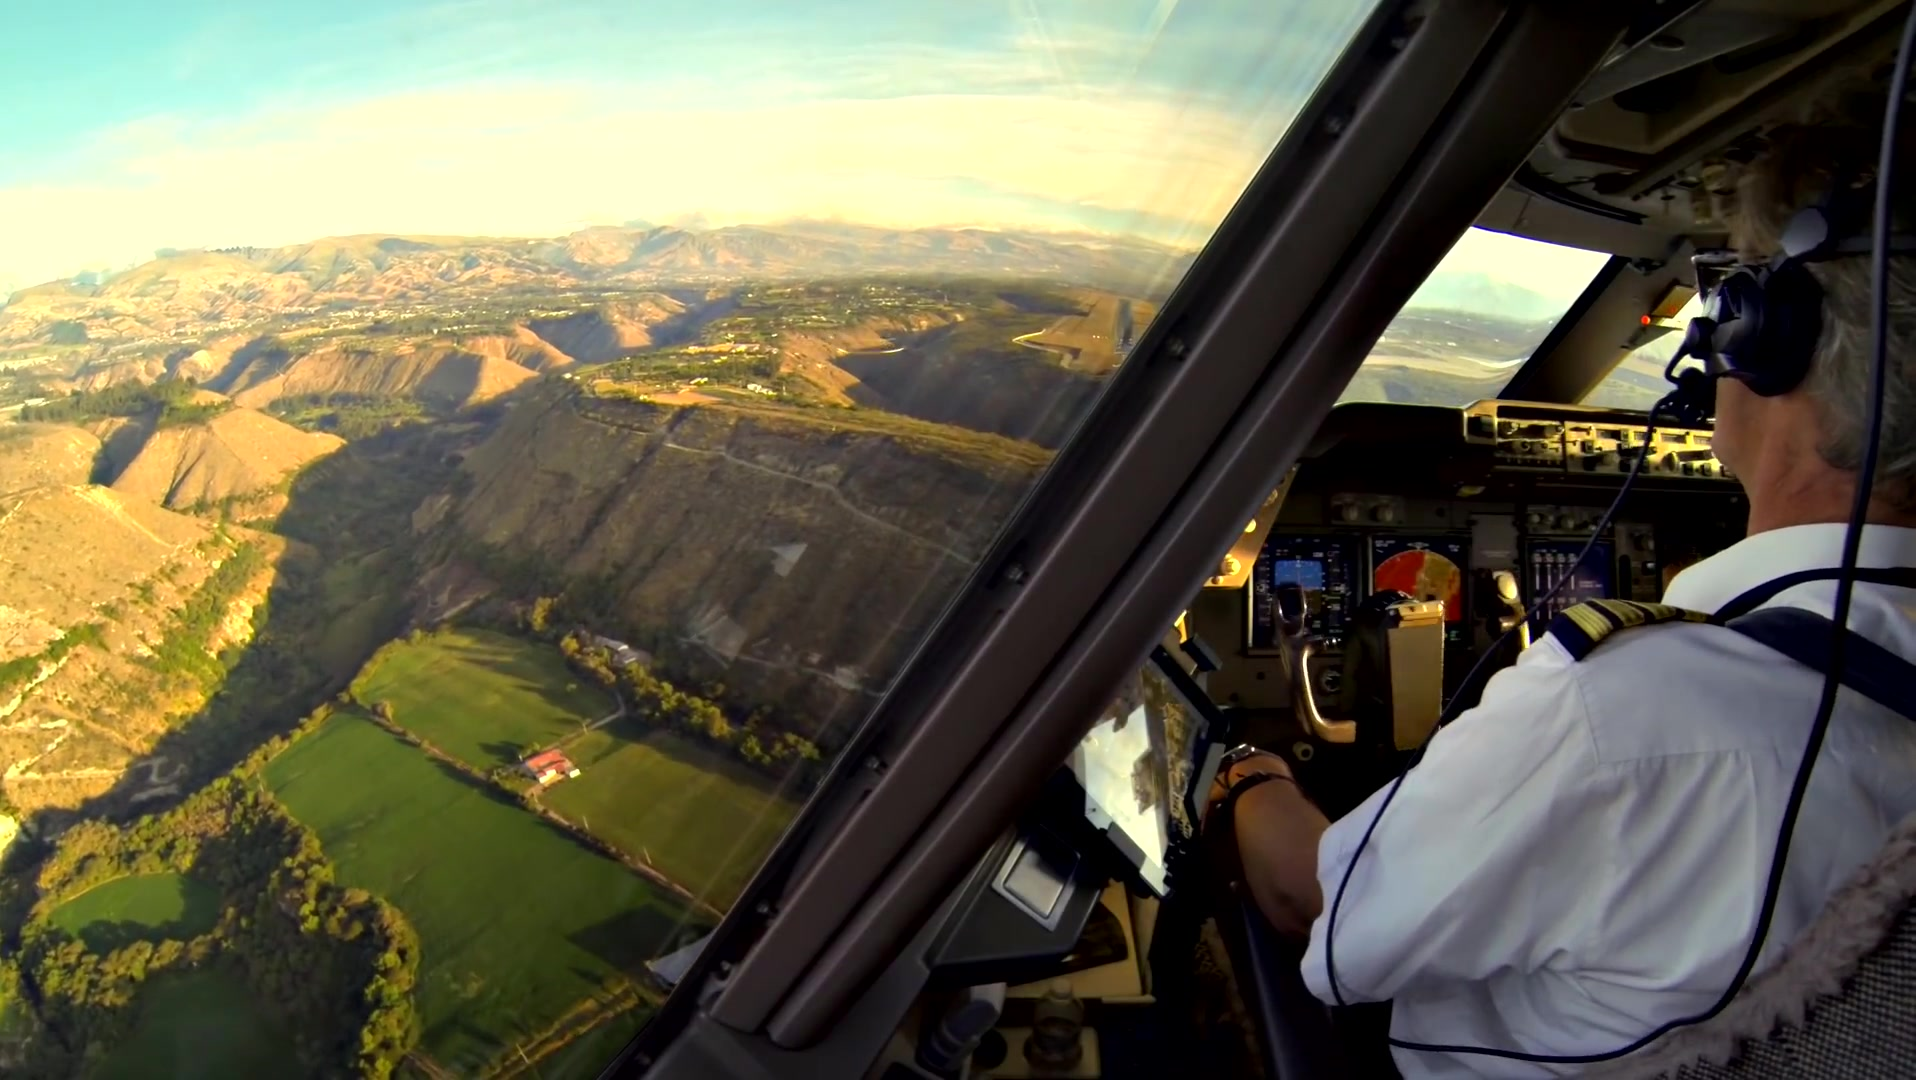runway: (1108, 297, 1142, 356)
